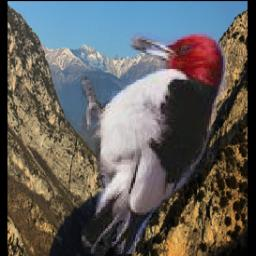Woodpecker: (81, 33, 227, 255)
